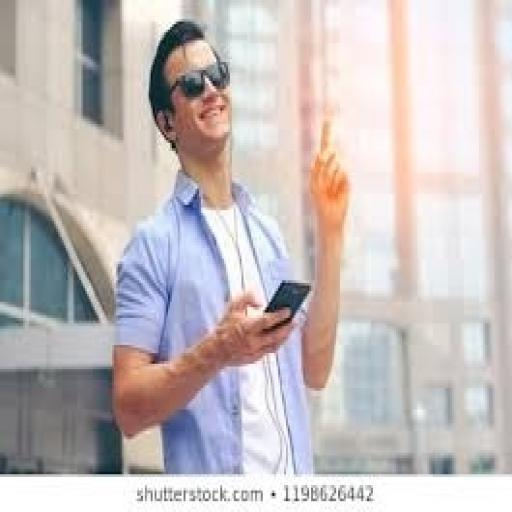listening_to_music: (110, 16, 354, 477)
